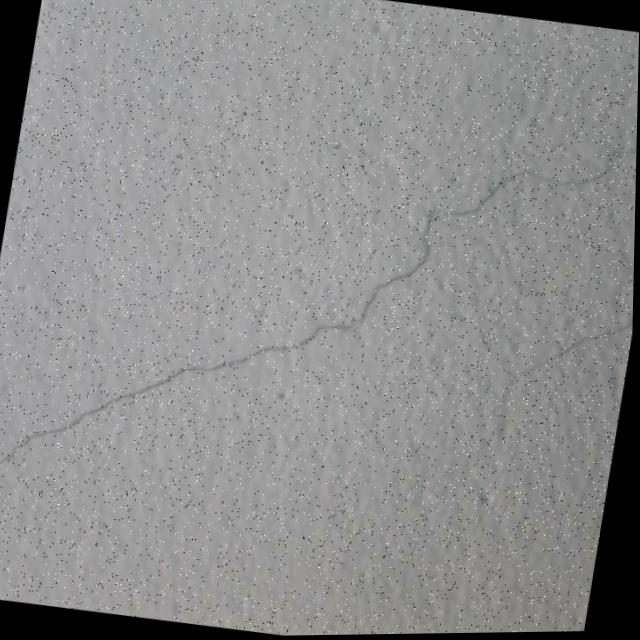Crack: (0, 42, 639, 567)
